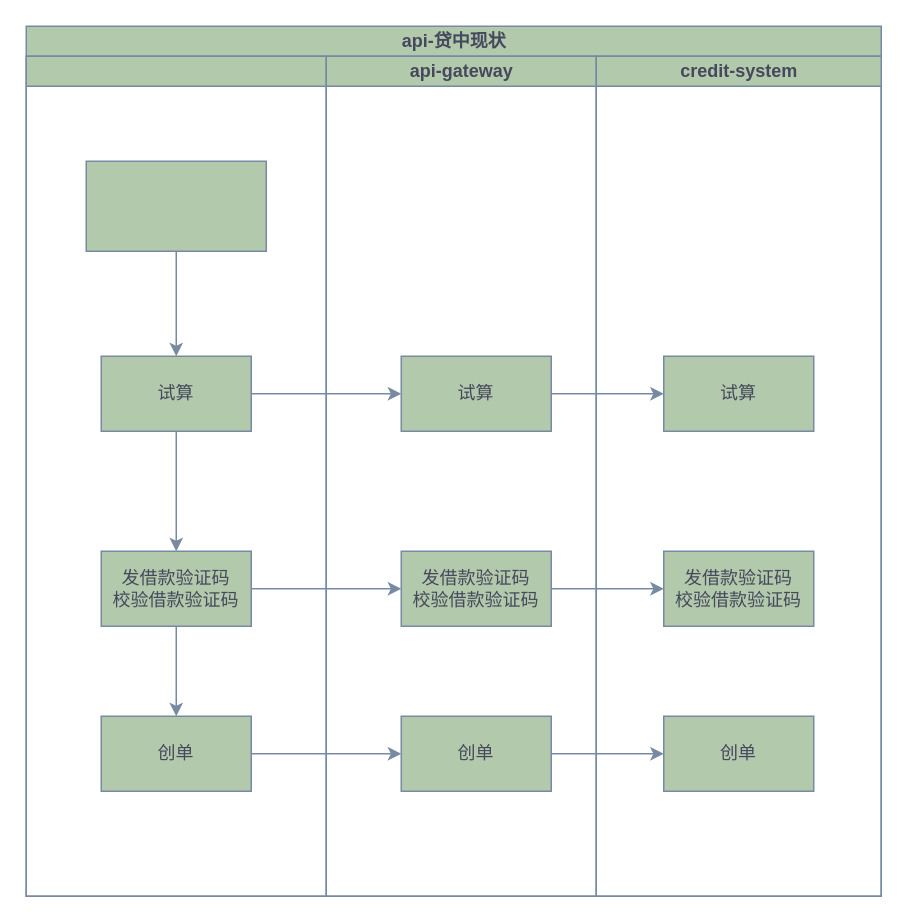
This 908x923 diagram has some shape labels left out. The shapes that lost their labels are listed below. From the top down, each one's box as (x1, y1, x2, y2) in pixels, then its label:
(85, 160, 266, 251): 授信通过的用户
(25, 55, 326, 896): 渠道
